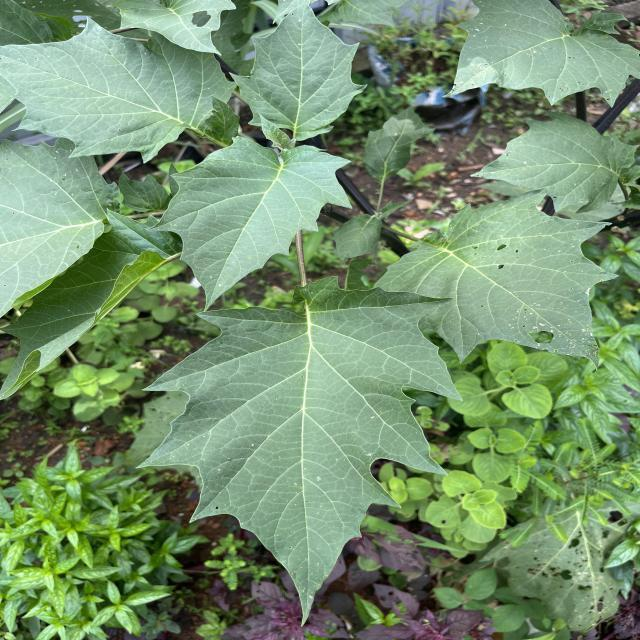Datura metal linn: (134, 271, 467, 630), (372, 183, 622, 375), (145, 133, 355, 311), (438, 0, 640, 109), (228, 0, 371, 143), (468, 108, 640, 216)
